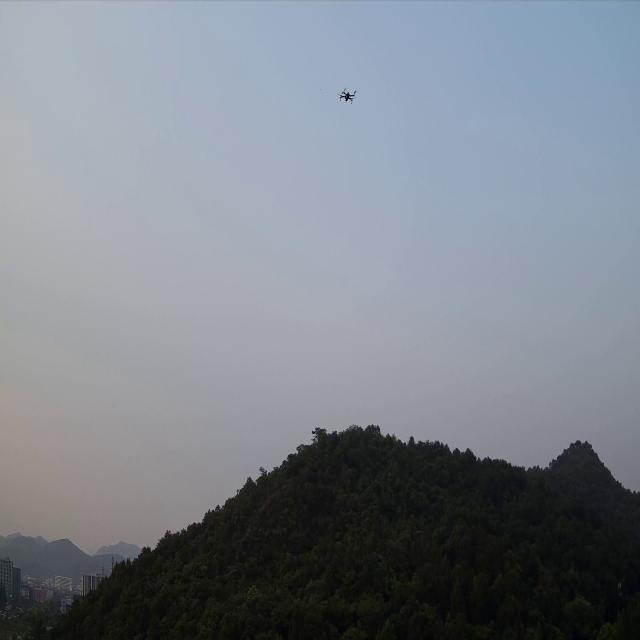UAV: (337, 86, 357, 105)
